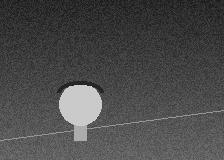no_helmet: (59, 81, 101, 130)
